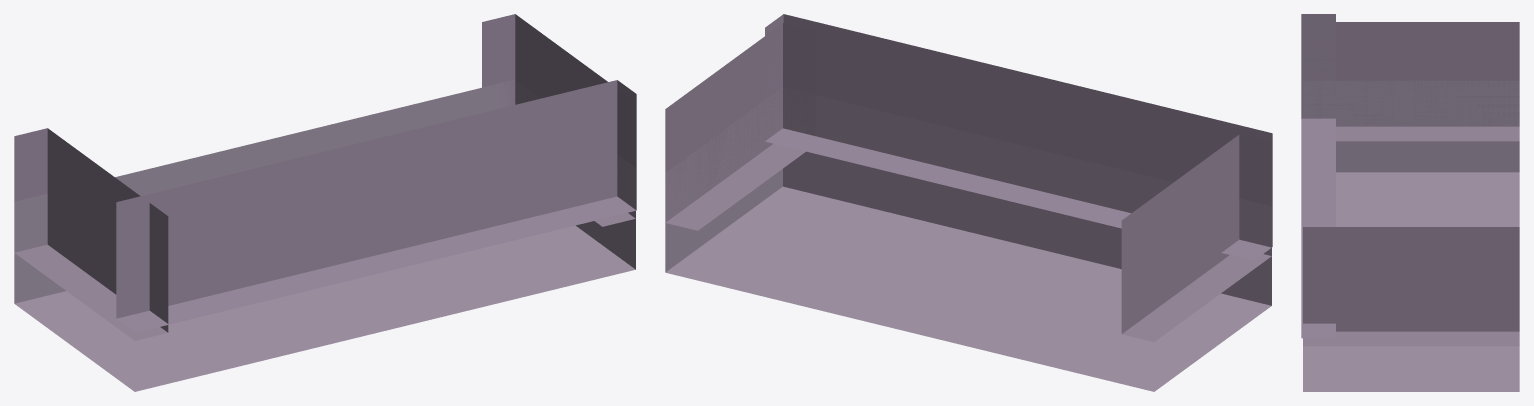
Rendered from sofa.gltf.
3 renders of one model, left to right at view 1: azimuth 30°, elevation 25°; view 2: azimuth 150°, elevation 25°; view 3: azimuth 270°, elevation 25°, orthographic. The views are drawn at different scales.
Visible parts, largest first — view 1: sofa; view 2: sofa; view 3: sofa.
Boxes of the visible parts, x1,y1,x2,y2 form: sofa: (14, 14, 636, 391); sofa: (665, 14, 1272, 391); sofa: (1301, 14, 1519, 391).
Bounding box in the file's own units: 1.8 × 0.605 × 0.755.
